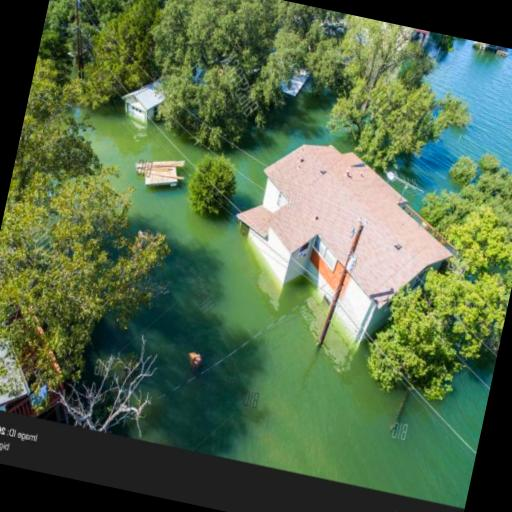flood: (71, 94, 493, 507), (385, 38, 512, 211)
house: (220, 130, 468, 338), (120, 80, 160, 124)
